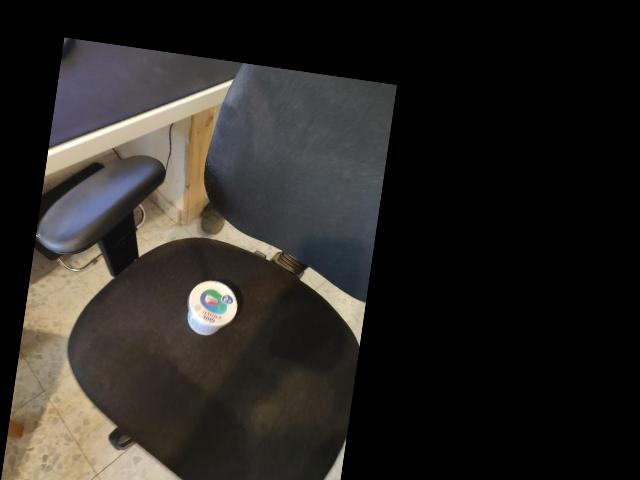cotage: (180, 274, 250, 352)
